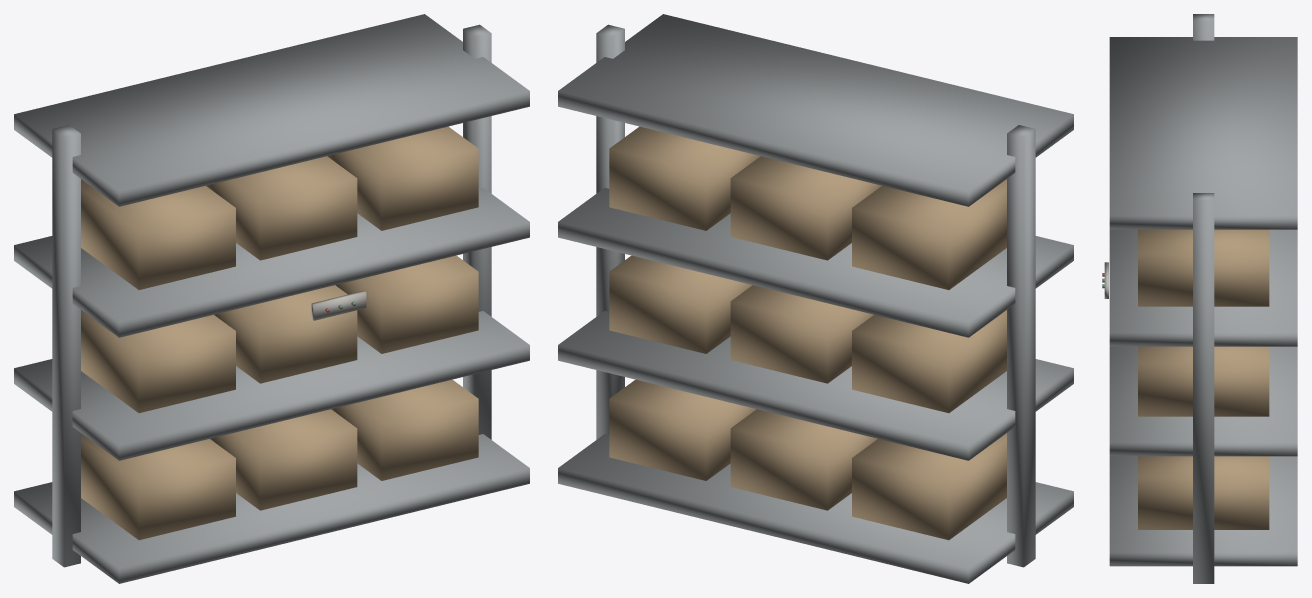
File: print_drying_rack__deep.glb
3 views of the same model, side by side, from view 1: azimuth 30°, elevation 25°; view 2: azimuth 150°, elevation 25°; view 3: azimuth 270°, elevation 25° (orthographic). The views are drawn at different scales.
Visible parts, largest first — view 1: world; view 2: world; view 3: world.
Part boxes in pixels (bbox=[...]): world: bbox=[14, 14, 529, 583]; world: bbox=[558, 14, 1073, 583]; world: bbox=[1102, 14, 1297, 583].
Bounding box in the file's own units: 2.29 × 2.2 × 1.01.
